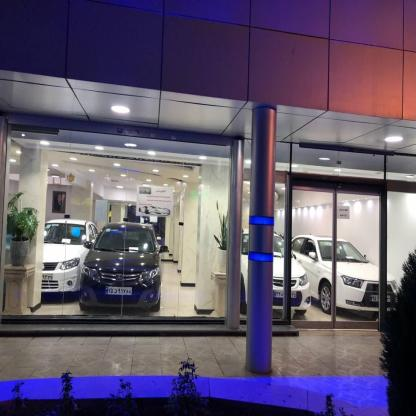Car: (80, 208, 160, 321), (295, 225, 391, 318), (235, 225, 317, 327), (32, 211, 78, 303)
